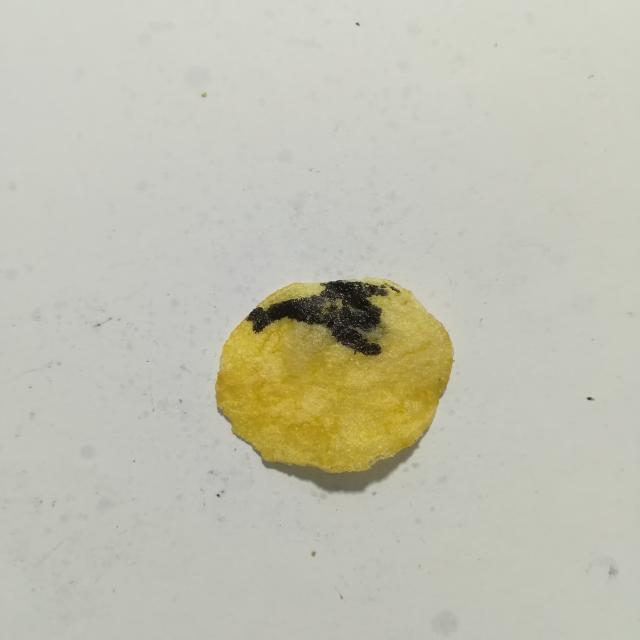chip: (215, 278, 453, 472)
damaged: (247, 280, 388, 355), (391, 286, 400, 293)
